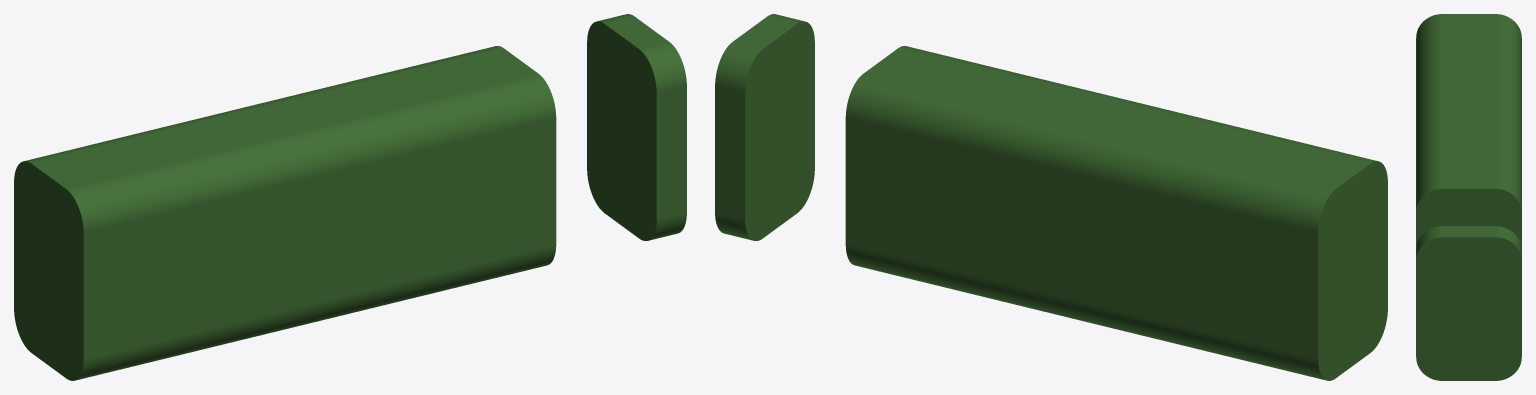
The model's file is f35-hedgerow-section.glb.
The picture shows the model from 3 angles, left to right: view 1: azimuth 30°, elevation 25°; view 2: azimuth 150°, elevation 25°; view 3: azimuth 270°, elevation 25°; orthographic projection. The views are drawn at different scales.
Parts seen in each view (by area): view 1: part0; view 2: part0; view 3: part0.
Boxes of the visible parts, x1,y1,x2,y2 form: part0: [14, 14, 686, 380]; part0: [715, 14, 1387, 380]; part0: [1416, 14, 1521, 380].
Size of the model in its own units: 6000 by 1800 by 1200.
